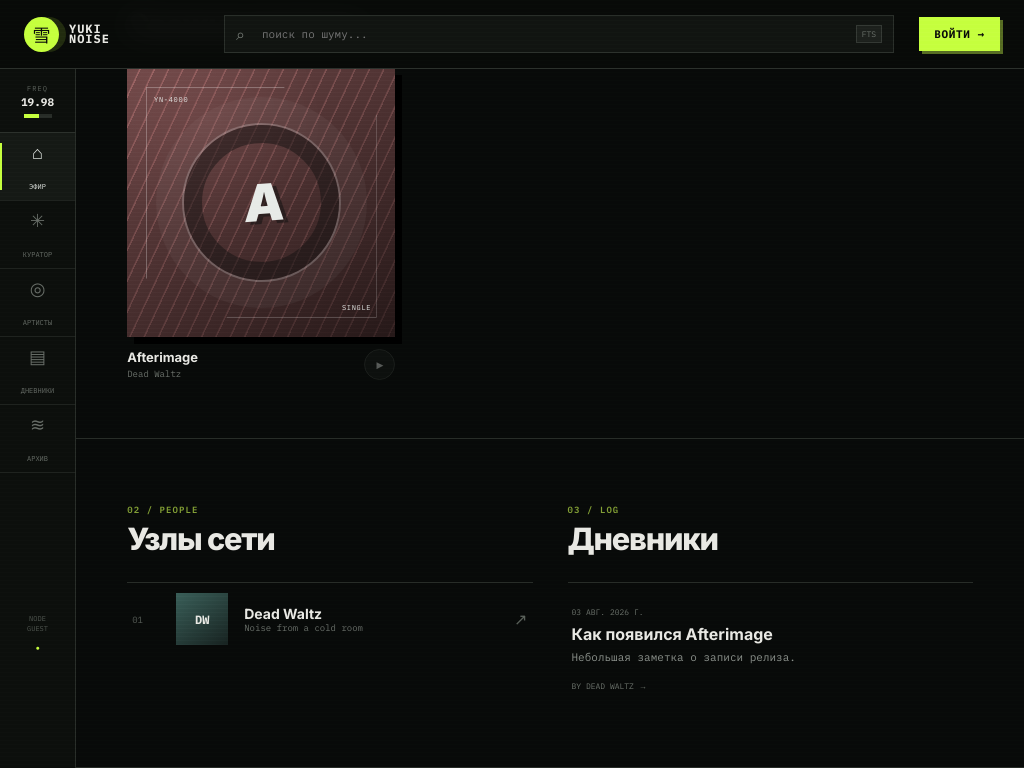
Test: App discovery › opens the new commentary thread from a post
(page scrolled)
Click the button "Как появился Afterimage" at point(770, 646), box [568,582,973,709]
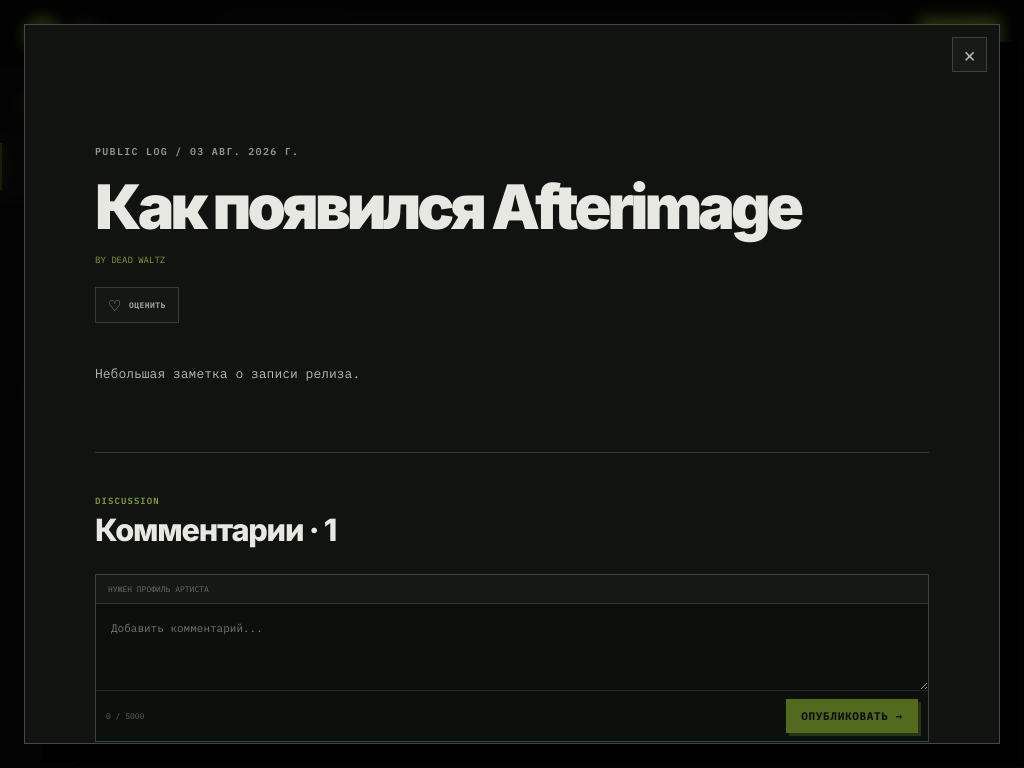
Expected: the heading "Комментарии · 1" is shown, [95,515,336,546]
Expected: the text box with placeholder "Добавить комментарий..." is shown, [96,604,928,690]
